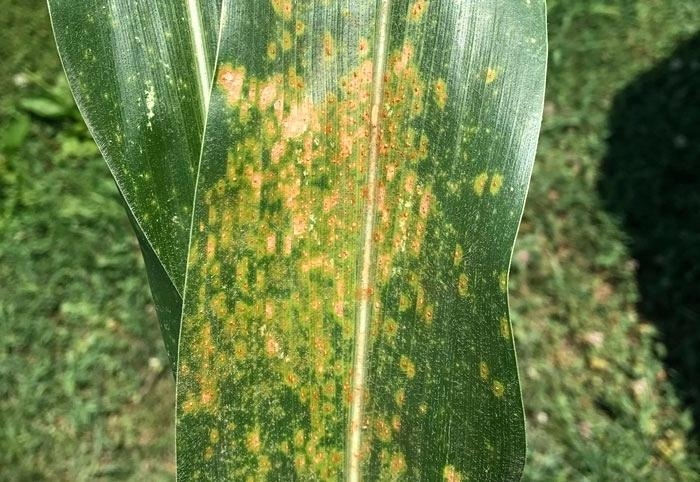Corn rust leaf: (166, 3, 542, 482)
